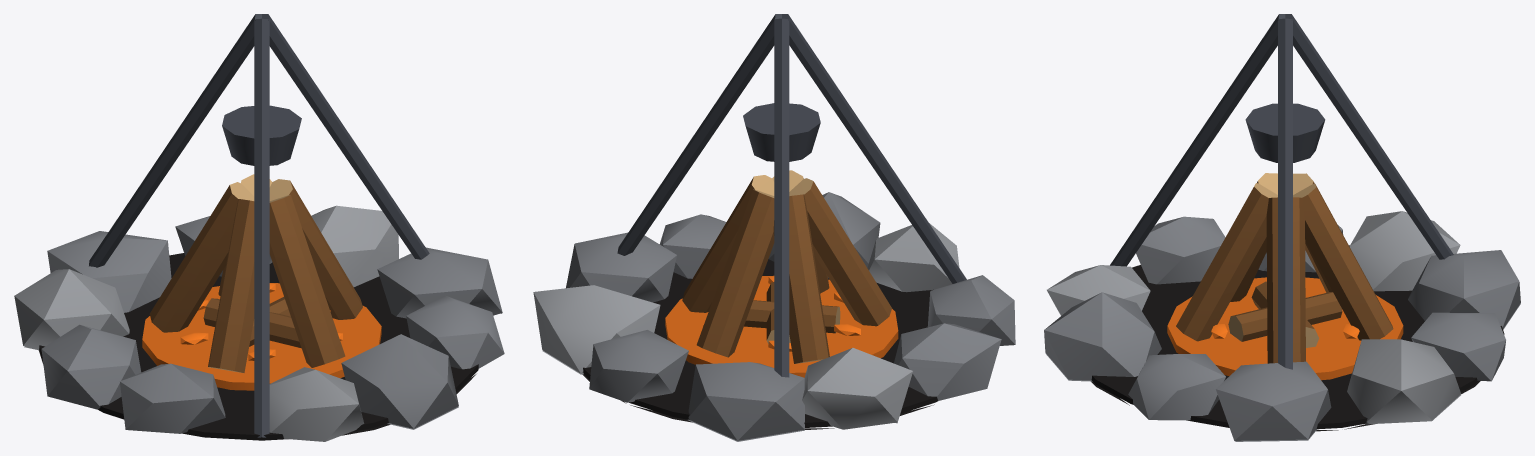
Rendered from campfire_2.glb.
3 views of the same model, side by side, from view 1: azimuth 30°, elevation 25°; view 2: azimuth 150°, elevation 25°; view 3: azimuth 270°, elevation 25° (orthographic). The views are drawn at different scales.
Parts seen in each view (by area): view 1: campfire_2, campfire_2_craft; view 2: campfire_2, campfire_2_craft; view 3: campfire_2, campfire_2_craft.
Boxes of the visible parts, bbox=[...] form: campfire_2: bbox=[14, 174, 504, 441]; campfire_2_craft: bbox=[89, 14, 429, 437]; campfire_2: bbox=[533, 170, 1015, 441]; campfire_2_craft: bbox=[617, 14, 966, 377]; campfire_2: bbox=[1044, 173, 1520, 441]; campfire_2_craft: bbox=[1110, 14, 1453, 369].
Size of the model in its own units: 2.56 by 1.89 by 2.51.
